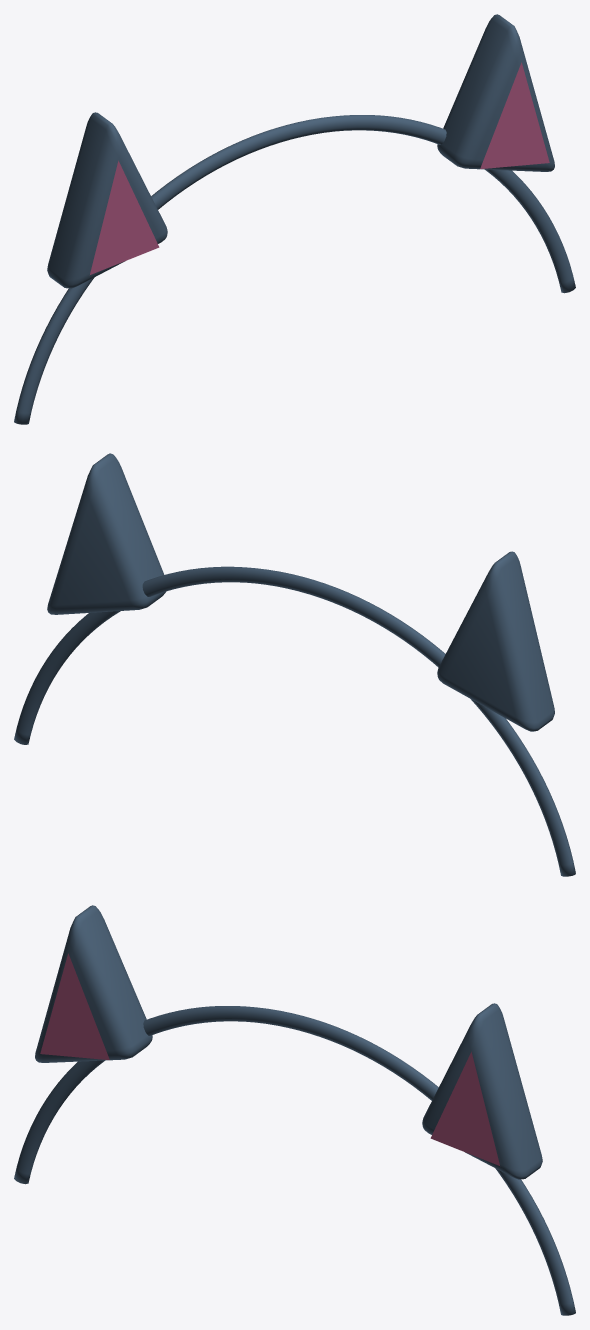
Rendered from Masculine-ears-headgear.glb.
The picture shows the model from 3 angles, top to bottom: view 1: azimuth 30°, elevation 25°; view 2: azimuth 150°, elevation 25°; view 3: azimuth 330°, elevation 25°; orthographic projection.
Parts seen in each view (by area): view 1: 226 headgear / Headwear / fabric226.001, 226 headgear / Accessory / pink226.001; view 2: 226 headgear / Headwear / fabric226.001; view 3: 226 headgear / Headwear / fabric226.001, 226 headgear / Accessory / pink226.001.
Part boxes in pixels (bbox=[...]): 226 headgear / Headwear / fabric226.001: bbox=[14, 14, 575, 424]; 226 headgear / Accessory / pink226.001: bbox=[90, 62, 549, 274]; 226 headgear / Headwear / fabric226.001: bbox=[14, 453, 575, 876]; 226 headgear / Headwear / fabric226.001: bbox=[14, 905, 575, 1315]; 226 headgear / Accessory / pink226.001: bbox=[40, 953, 499, 1165].
Bounding box in the file's own units: 1.09 × 0.5458 × 0.1124.
